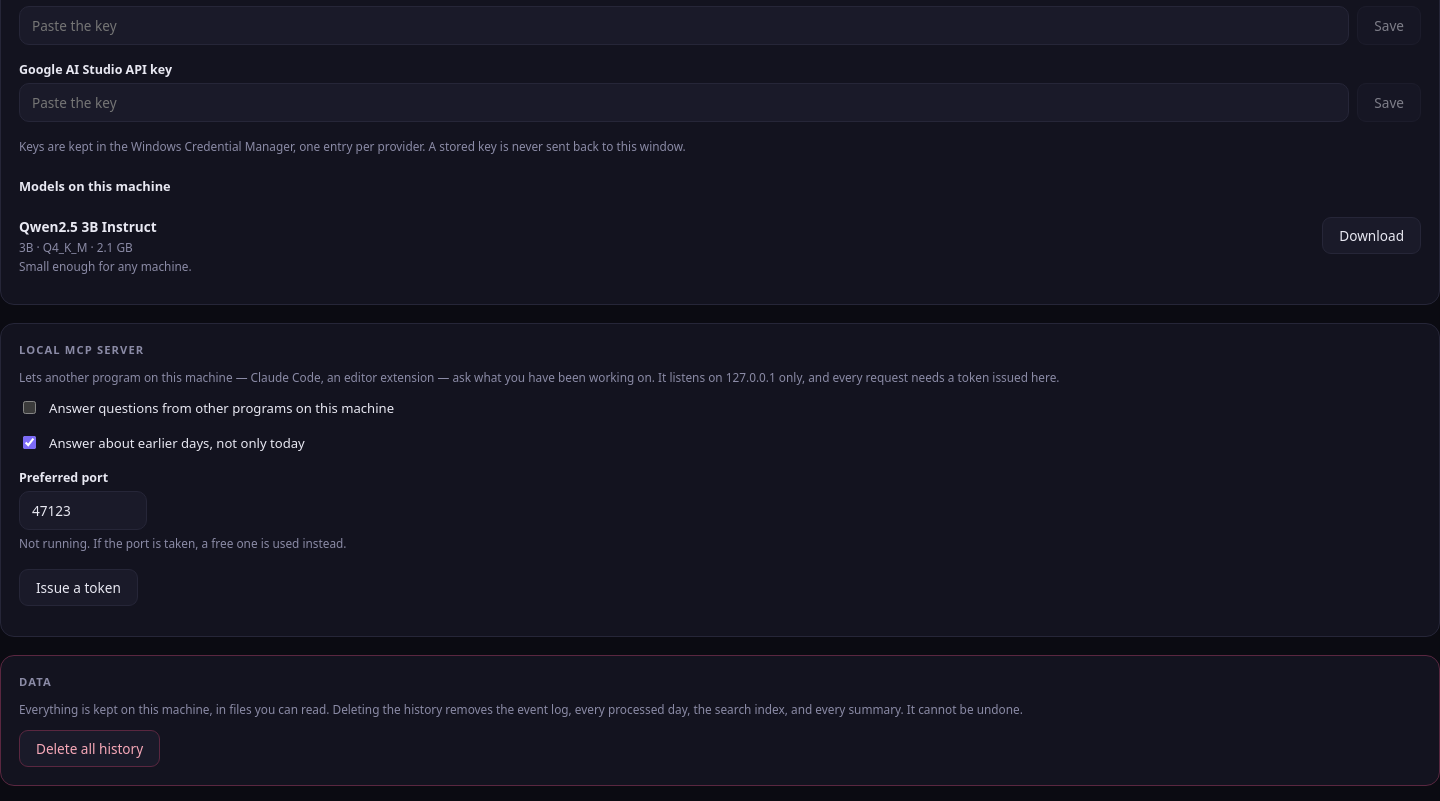
Test: Settings — the MCP server › is off, and turning it on shows a token exactly once
(page scrolled)
Click the checkbox labelled "Answer questions from other programs on this machine" at (30, 408), box [23,401,36,414]
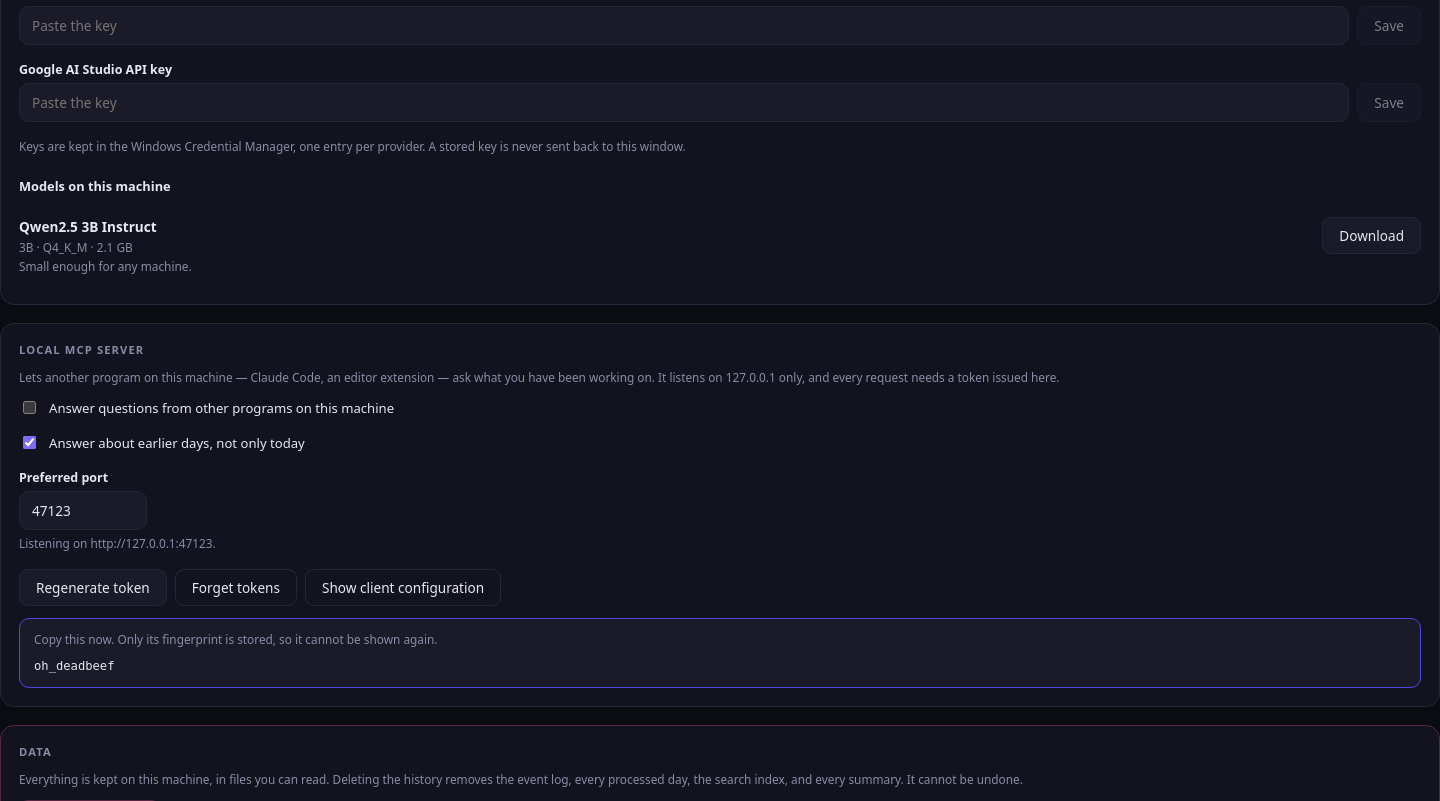
Check: the text "oh_deadbeef" is shown, box [34,659,114,673]
Check: the text "cannot be shown again" is shown, box [34,631,438,647]
